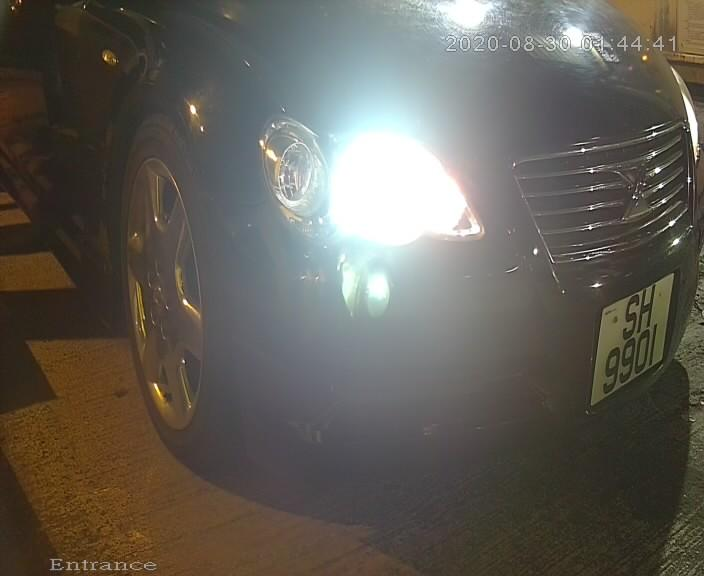License Plate: (585, 265, 673, 415)
